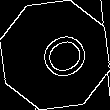O_SW: (22, 23, 88, 87)
